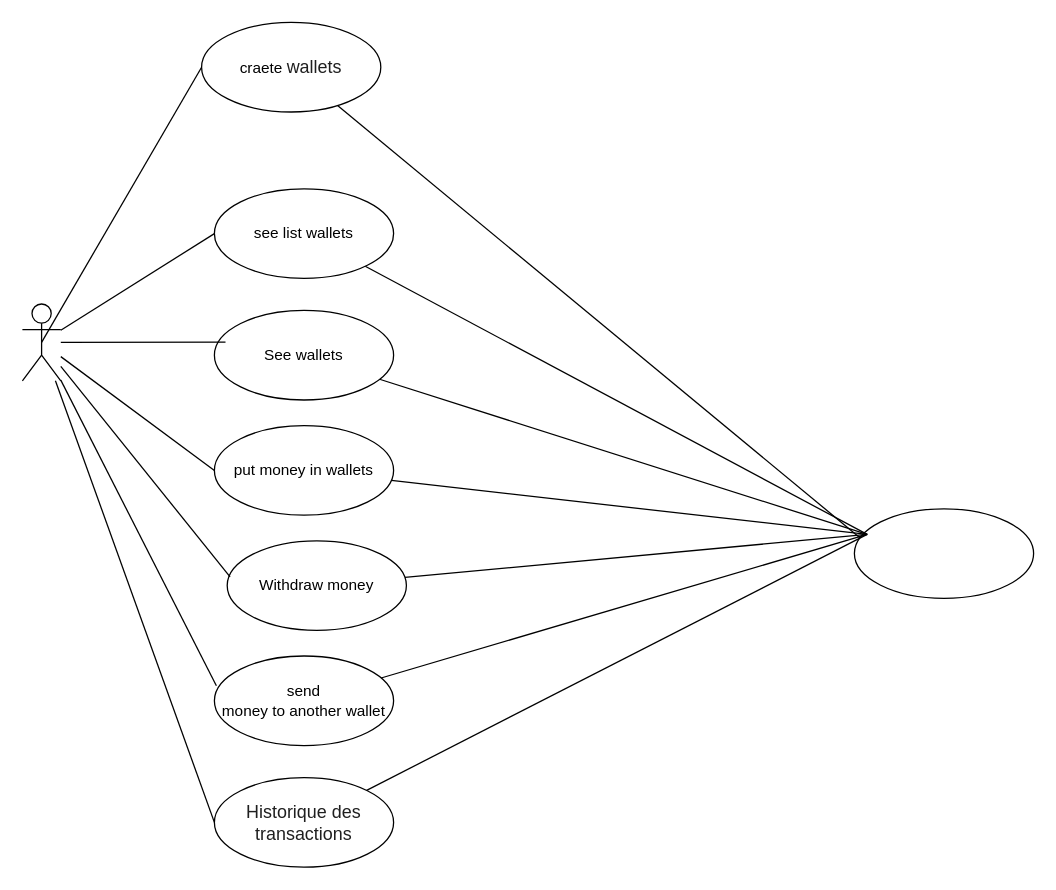
Some shapes in this 1056 by 890 pixel diagram are drawn without their labels. Each missing label, with the centre of its shape:
"Auth" goes at pixel 943 553.
"user" goes at pixel 41 342.
